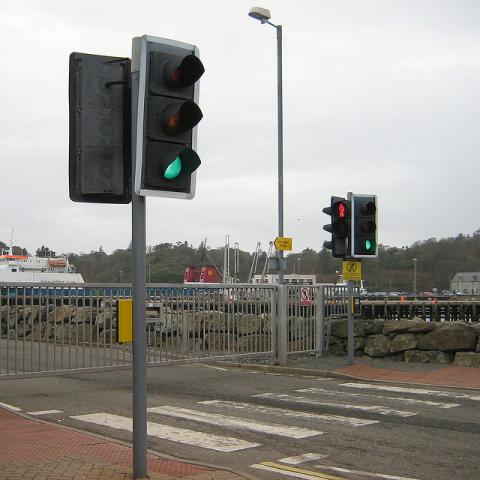car: (368, 293, 386, 301), (359, 291, 366, 300), (424, 292, 434, 297), (389, 292, 400, 296), (402, 292, 412, 296), (394, 291, 402, 296), (444, 293, 454, 296), (383, 293, 389, 296)
